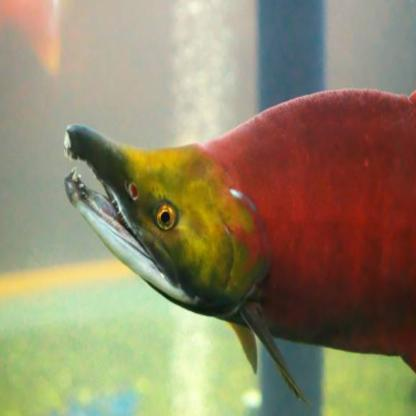sockeye: (63, 84, 416, 335)
